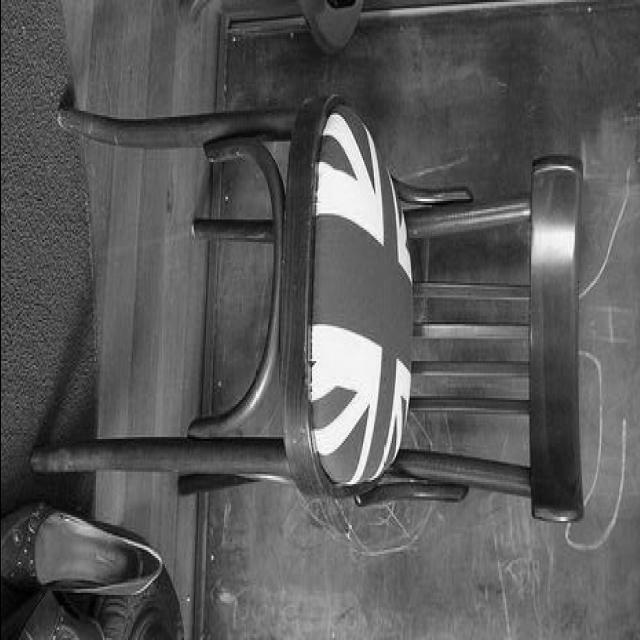chair: (29, 77, 594, 544)
